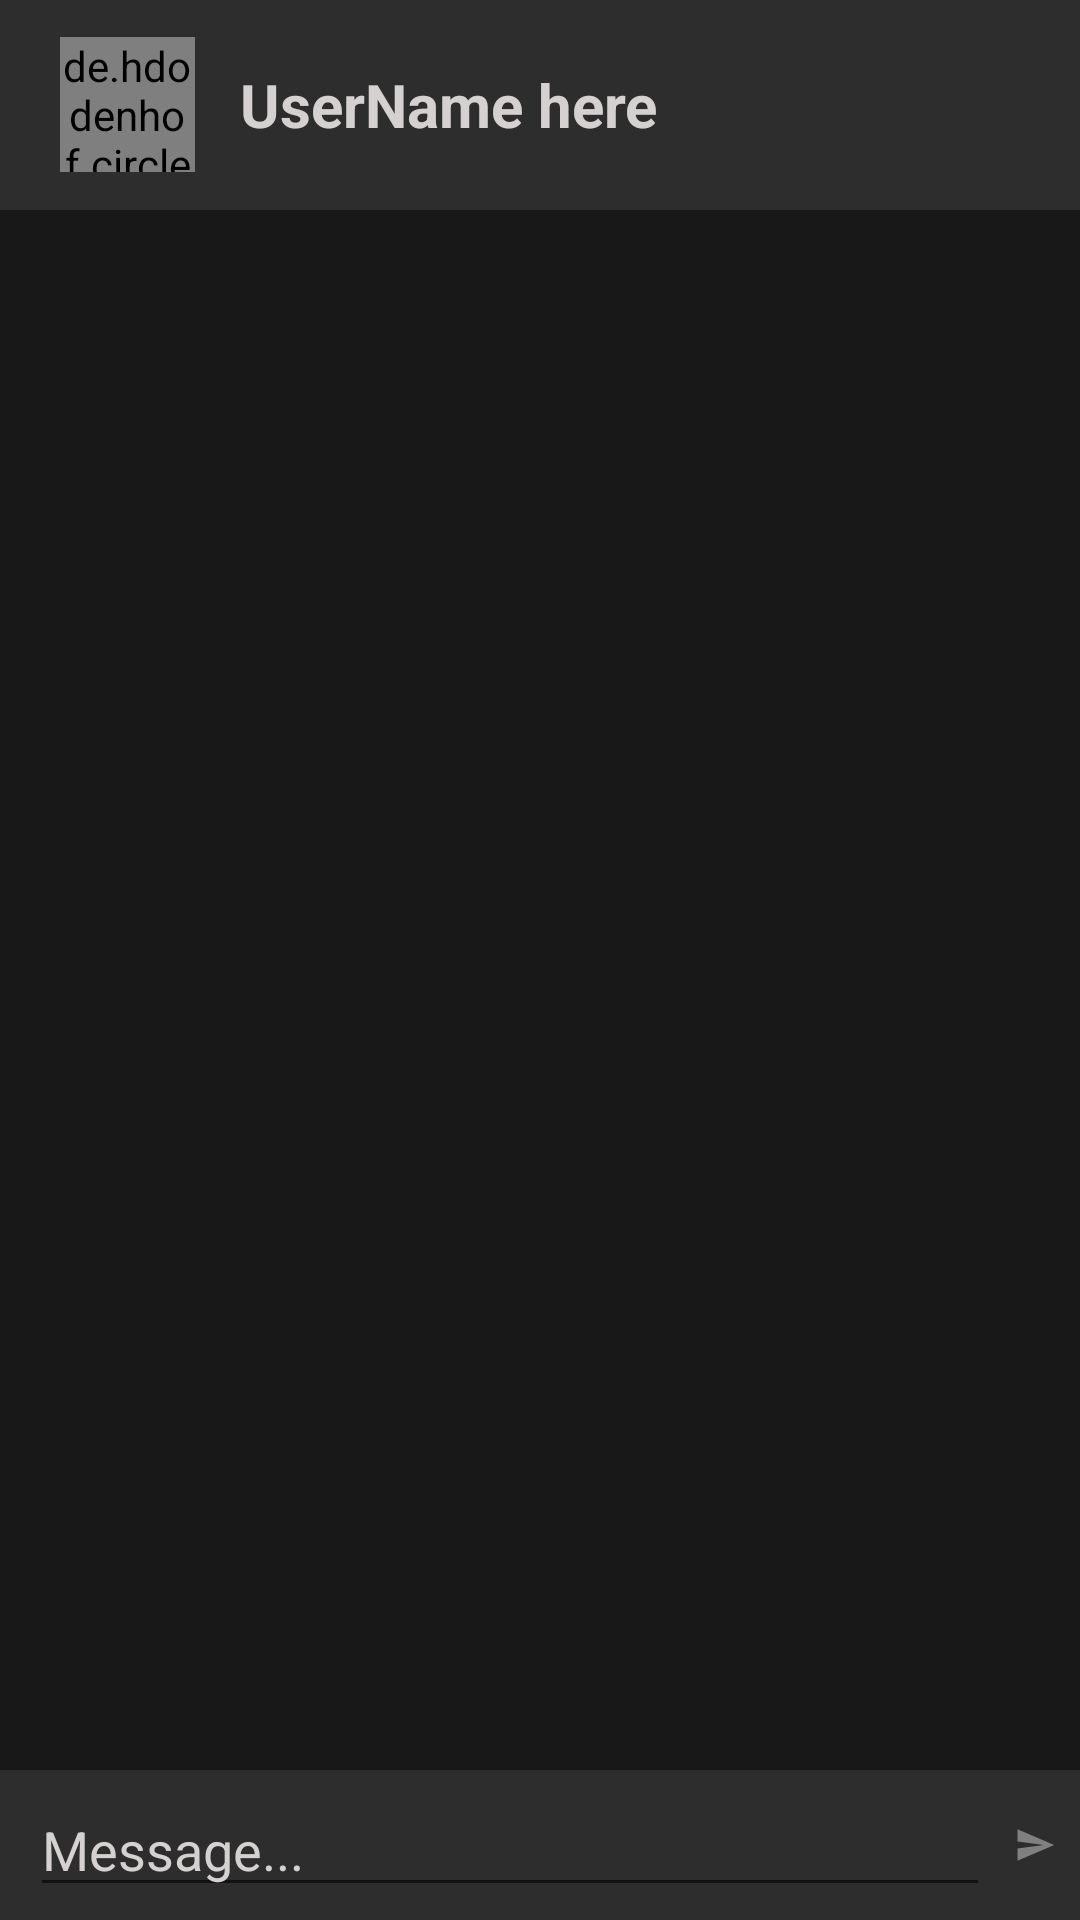

Icons on this 1080px x 1920px Android screen, each with the point to tap as point (x, y):
send: point (1035, 1845)
